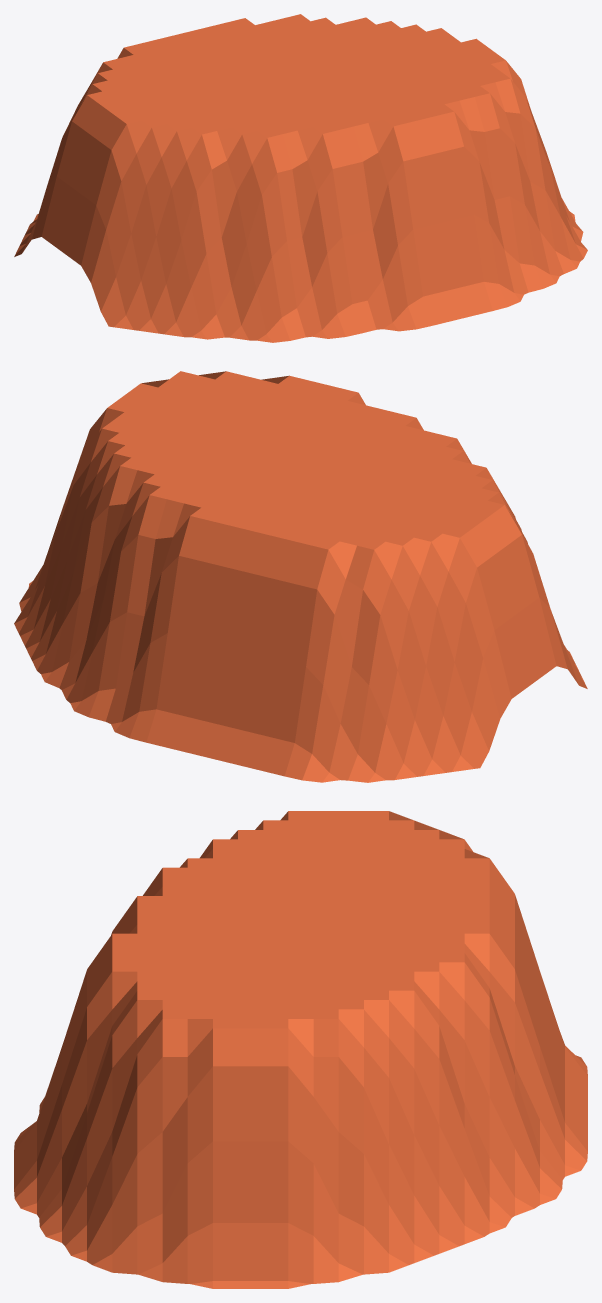
File: sand_mountain_2.fbx
The picture shows the model from 3 angles, top to bottom: view 1: azimuth 30°, elevation 25°; view 2: azimuth 150°, elevation 25°; view 3: azimuth 270°, elevation 25°; orthographic projection. The views are drawn at different scales.
Parts seen in each view (by area): view 1: Plane.006; view 2: Plane.006; view 3: Plane.006.
Boxes of the visible parts, x1,y1,x2,y2 form: Plane.006: (14,14,587,342); Plane.006: (14,371,587,782); Plane.006: (14,811,587,1288).
Size of the model in its own units: 1218 by 430 by 1025.
